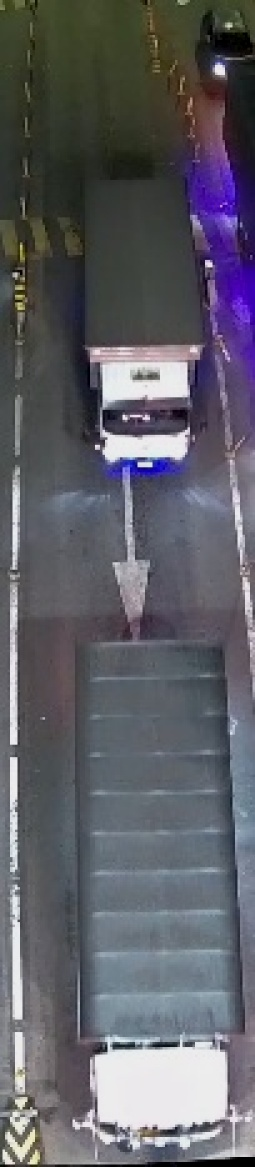truck: (73, 634, 243, 1153), (82, 146, 204, 468)
